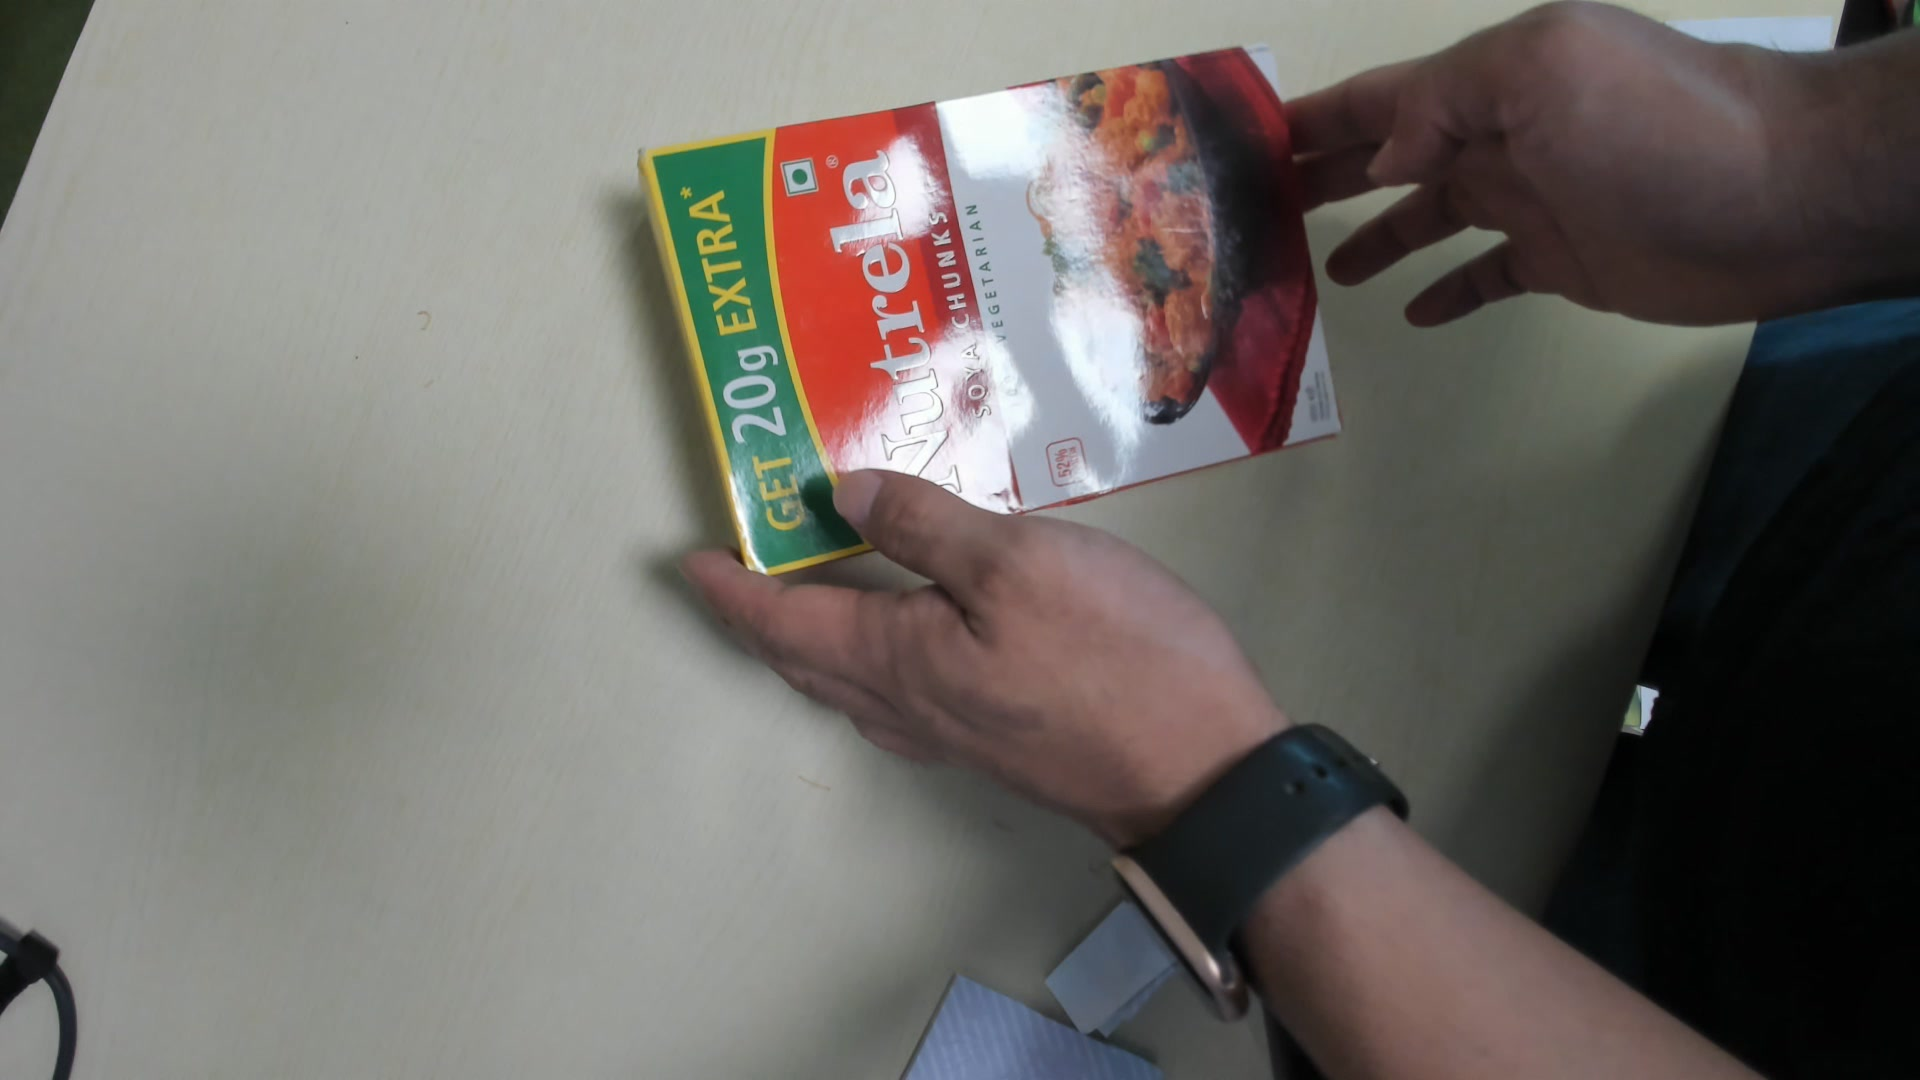InstantMeals_200_299g_NonHalal_NonHealthy: (642, 42, 1340, 585)
